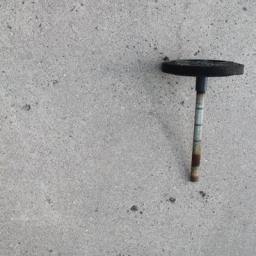FOD: (157, 55, 247, 185)
